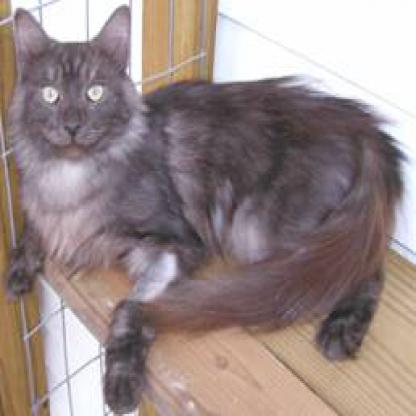cat: (7, 3, 392, 350)
